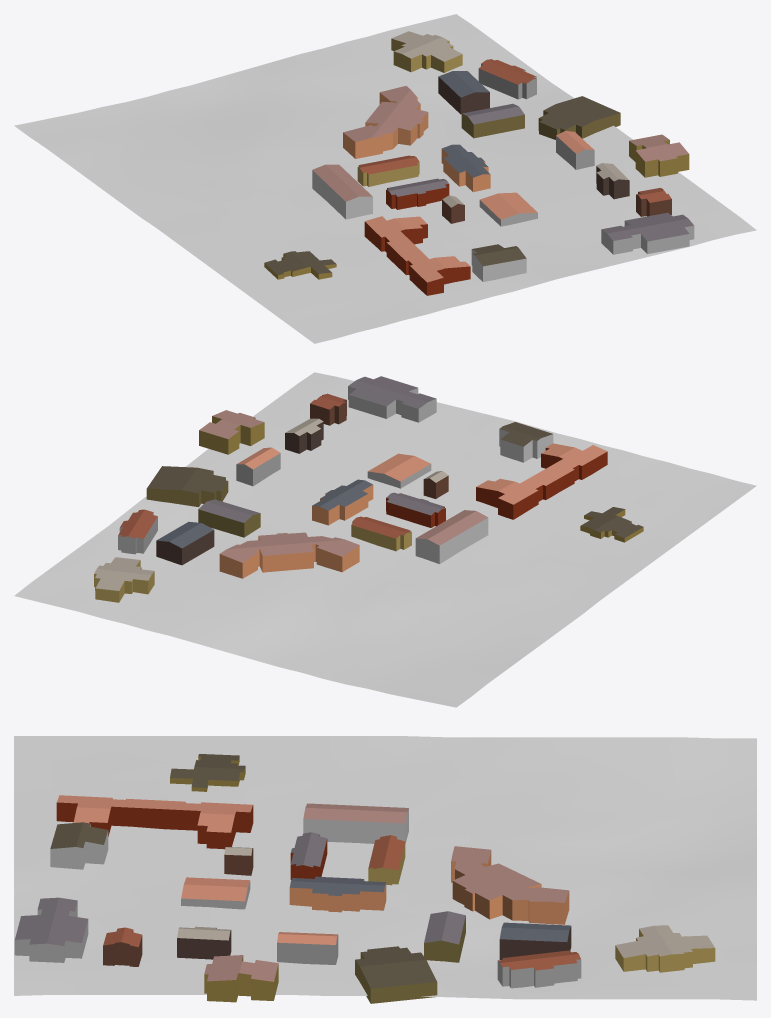
The model's file is TNTECH04.fbx.
3 renders of one model, top to bottom at view 1: azimuth 30°, elevation 25°; view 2: azimuth 150°, elevation 25°; view 3: azimuth 270°, elevation 25°, orthographic. The views are drawn at different scales.
Visible parts, largest first — view 1: Terrain, Laboratory Sciences Building, Volpe Library and Media Center, Memorial Gym, Roaden University Center, Bryan Fine Arts, Prescott Hall, Derryberry Hall, element, Johnson Hall, Pennebaker Hall, Clement Hall (+8 smaller); view 2: Terrain, Volpe Library and Media Center, Laboratory Sciences Building, Memorial Gym, Roaden University Center, Prescott Hall, Derryberry Hall, Bryan Fine Arts, Clement Hall, Johnson Hall, Foster Hall, element (+9 smaller); view 3: Terrain, Laboratory Sciences Building, Volpe Library and Media Center, Memorial Gym, Roaden University Center, Prescott Hall, Bryan Fine Arts, Clement Hall, Derryberry Hall, Pennebaker Hall, element, Johnson Hall (+9 smaller).
Boxes of the visible parts, <box> form: Terrain: <box>14,14,756,343</box>; Laboratory Sciences Building: <box>364,216,470,295</box>; Volpe Library and Media Center: <box>343,86,428,158</box>; Memorial Gym: <box>601,212,694,254</box>; Roaden University Center: <box>538,96,620,139</box>; Bryan Fine Arts: <box>391,31,462,72</box>; Prescott Hall: <box>312,164,372,219</box>; Derryberry Hall: <box>629,134,689,177</box>; element: <box>471,244,526,281</box>; Johnson Hall: <box>438,71,489,114</box>; Pennebaker Hall: <box>478,59,536,99</box>; Clement Hall: <box>441,144,490,192</box>; Terrain: <box>14,372,756,707</box>; Volpe Library and Media Center: <box>219,532,359,578</box>; Laboratory Sciences Building: <box>476,443,607,519</box>; Memorial Gym: <box>348,376,436,422</box>; Roaden University Center: <box>146,466,228,507</box>; Prescott Hall: <box>415,510,488,564</box>; Derryberry Hall: <box>199,410,264,454</box>; Bryan Fine Arts: <box>94,557,154,602</box>; Clement Hall: <box>312,479,373,525</box>; Johnson Hall: <box>156,521,214,565</box>; Foster Hall: <box>198,499,260,537</box>; element: <box>499,422,553,462</box>; Terrain: <box>14,736,756,1000</box>; Laboratory Sciences Building: <box>56,795,253,849</box>; Volpe Library and Media Center: <box>451,846,569,924</box>; Memorial Gym: <box>14,897,88,962</box>; Roaden University Center: <box>355,946,437,1003</box>; Prescott Hall: <box>303,803,408,843</box>; Bryan Fine Arts: <box>615,925,715,972</box>; Clement Hall: <box>289,876,386,912</box>; Derryberry Hall: <box>204,955,278,1002</box>; Pennebaker Hall: <box>497,950,581,988</box>; element: <box>50,822,108,869</box>; Johnson Hall: <box>499,922,571,959</box>.
Bounding box in the file's own units: 51337 × 3424 × 58752.
